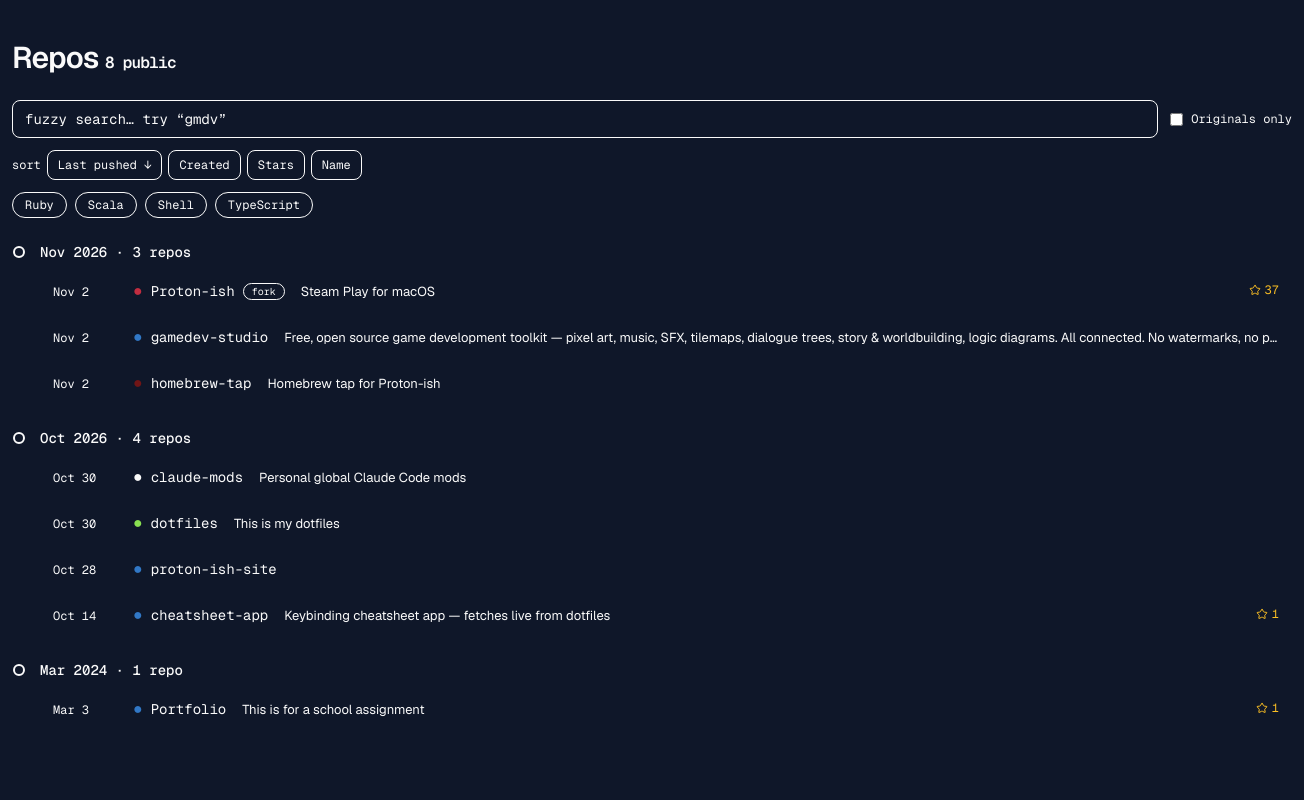
RepoBrowser › should show an empty state when nothing matches
Type "zzzzqq" into the search field named "Search repos" at (585, 119), box left=12, top=100, right=1158, bottom=138
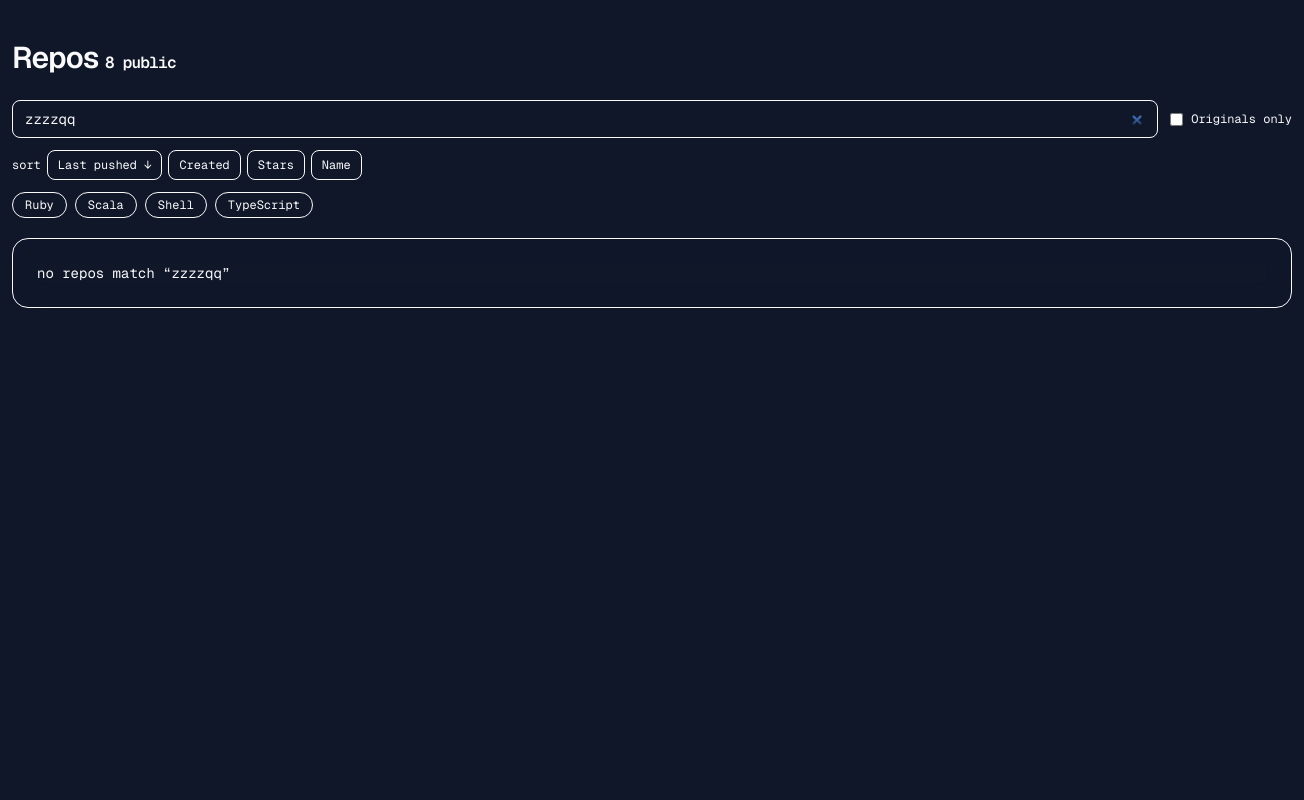
Expected: the text "no repos match “zzzzqq”" is shown, left=12, top=238, right=1292, bottom=308
